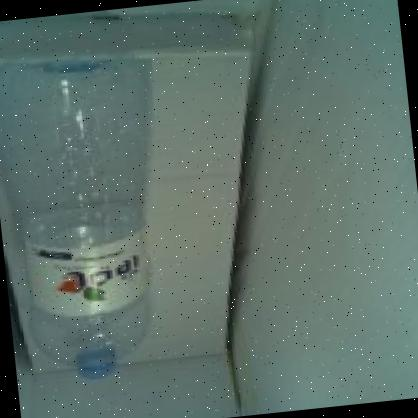bottle: (0, 28, 200, 399)
label: (20, 229, 156, 311)
